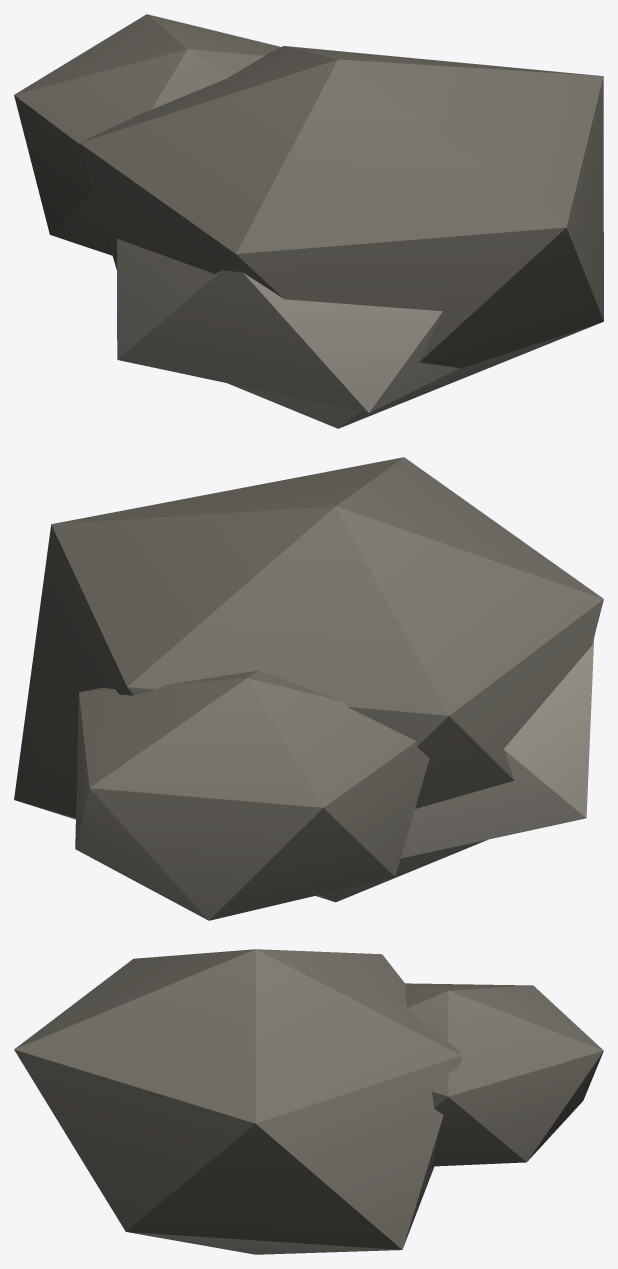
The model's file is rock_2.glb.
3 renders of one model, top to bottom at view 1: azimuth 30°, elevation 25°; view 2: azimuth 150°, elevation 25°; view 3: azimuth 270°, elevation 25°, orthographic. The views are drawn at different scales.
Parts seen in each view (by area): view 1: rock_2; view 2: rock_2; view 3: rock_2.
Boxes of the visible parts, left/top/right/bottom form: rock_2: left=14, top=14, right=603, bottom=428; rock_2: left=14, top=457, right=603, bottom=920; rock_2: left=14, top=949, right=603, bottom=1254.
Bounding box in the file's own units: 0.9483 × 0.6792 × 1.19.
1 material, 1 textured.
